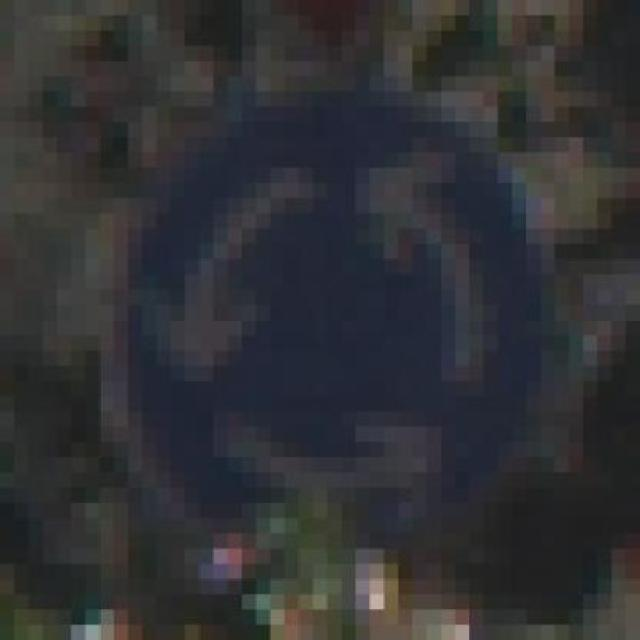Round-About: (99, 107, 555, 548)
